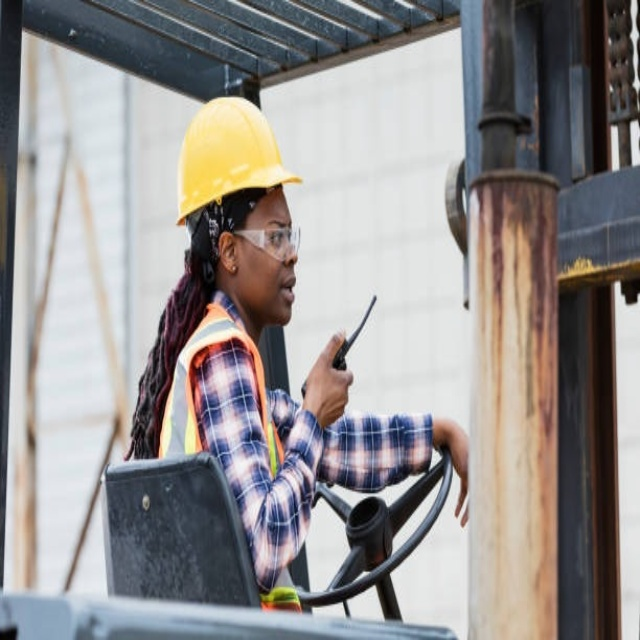Gafas: (233, 226, 302, 263)
Sin_guantes: (299, 328, 358, 418), (434, 410, 471, 527)
Sin_mascara: (275, 268, 299, 314)
